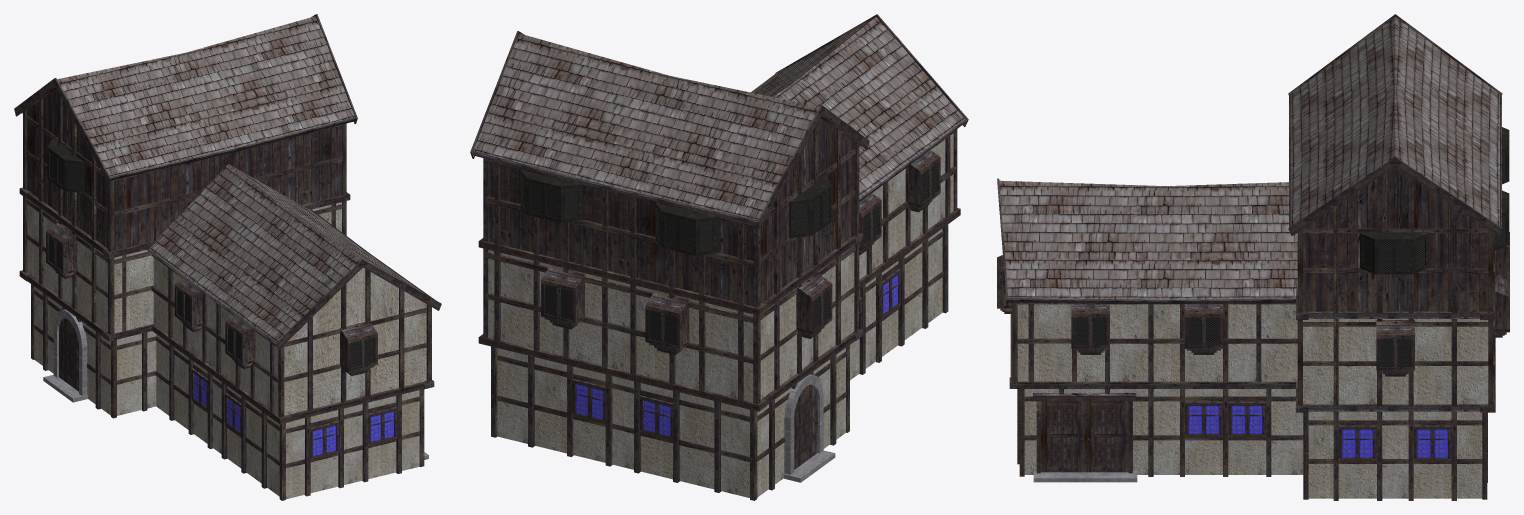
Rendered from thouse09.dae.
3 views of the same model, side by side, from view 1: azimuth 30°, elevation 25°; view 2: azimuth 150°, elevation 25°; view 3: azimuth 270°, elevation 25° (orthographic). The views are drawn at different scales.
Visible parts, largest first — view 1: House2_Roof, House1_Roof, House1_Level2, House2_Level3, House1_Level1, House1_Level1_Beams, House2_Level3_Beams, House1_Level2_Beams, House2_Level2, House2_Level1, House2_Level2_Beams, House2_Level1_Beams (+19 smaller); view 2: House2_Roof, House2_Level3, House2_Level2, House2_Level1, House1_Roof, House2_Level2_Beams, House2_Level1_Beams, House2_Level3_Beams, House1_Level1, House2_Level2_SeperatorBeams, House2_Level1_SeperatorBeams, House1_Level2 (+25 smaller); view 3: House1_Roof, House2_Roof, House2_Level3, House1_Level2, House2_Level2, House1_Level1, House2_Level1, House2_Level3_Beams, House2_Level1_Beams, House1_Level1_Beams, House1_Level2_Beams, House2_Level2_Beams (+26 smaller).
Boxes of the visible parts, <box> form: House2_Roof: <box>57,16,354,176</box>; House1_Roof: <box>149,164,425,342</box>; House1_Level2: <box>153,257,426,415</box>; House2_Level3: <box>27,89,341,250</box>; House1_Level1: <box>156,334,419,499</box>; House1_Level1_Beams: <box>155,336,424,500</box>; House2_Level3_Beams: <box>23,92,346,251</box>; House1_Level2_Beams: <box>151,255,431,417</box>; House2_Level2: <box>27,199,341,333</box>; House2_Level1: <box>34,286,156,415</box>; House2_Level2_Beams: <box>23,196,346,334</box>; House2_Level1_Beams: <box>31,284,155,418</box>; House2_Roof: <box>473,33,819,220</box>; House2_Level3: <box>488,118,854,305</box>; House2_Level2: <box>488,246,854,402</box>; House2_Level1: <box>497,348,845,497</box>; House1_Roof: <box>752,17,965,197</box>; House2_Level2_Beams: <box>483,243,859,403</box>; House2_Level1_Beams: <box>491,345,849,500</box>; House2_Level3_Beams: <box>483,122,859,307</box>; House1_Level1: <box>850,228,942,380</box>; House2_Level2_SeperatorBeams: <box>478,233,862,315</box>; House2_Level1_SeperatorBeams: <box>478,329,862,411</box>; House1_Level2: <box>859,133,953,279</box>; House1_Roof: <box>999,180,1297,299</box>; House2_Roof: <box>1291,17,1499,226</box>; House2_Level3: <box>1303,166,1488,311</box>; House1_Level2: <box>1017,304,1297,381</box>; House2_Level2: <box>1303,319,1488,404</box>; House1_Level1: <box>1024,389,1303,474</box>; House2_Level1: <box>1308,411,1482,498</box>; House2_Level3_Beams: <box>1297,175,1494,312</box>; House2_Level1_Beams: <box>1303,411,1487,500</box>; House1_Level1_Beams: <box>1017,389,1303,476</box>; House1_Level2_Beams: <box>1012,302,1297,381</box>; House2_Level2_Beams: <box>1297,319,1495,405</box>.
Bounding box in the file's own units: 8.78 × 13.25 × 10.07.
Materials: 19 (19 with a texture image).
